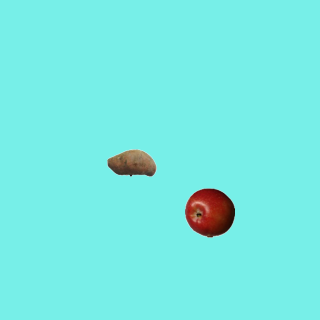Apple Braeburn: (184, 187, 234, 237)
Potato Sweet: (106, 137, 156, 187)
